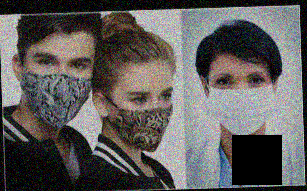with_mask: (21, 46, 94, 128), (208, 67, 275, 137), (111, 83, 175, 152)
